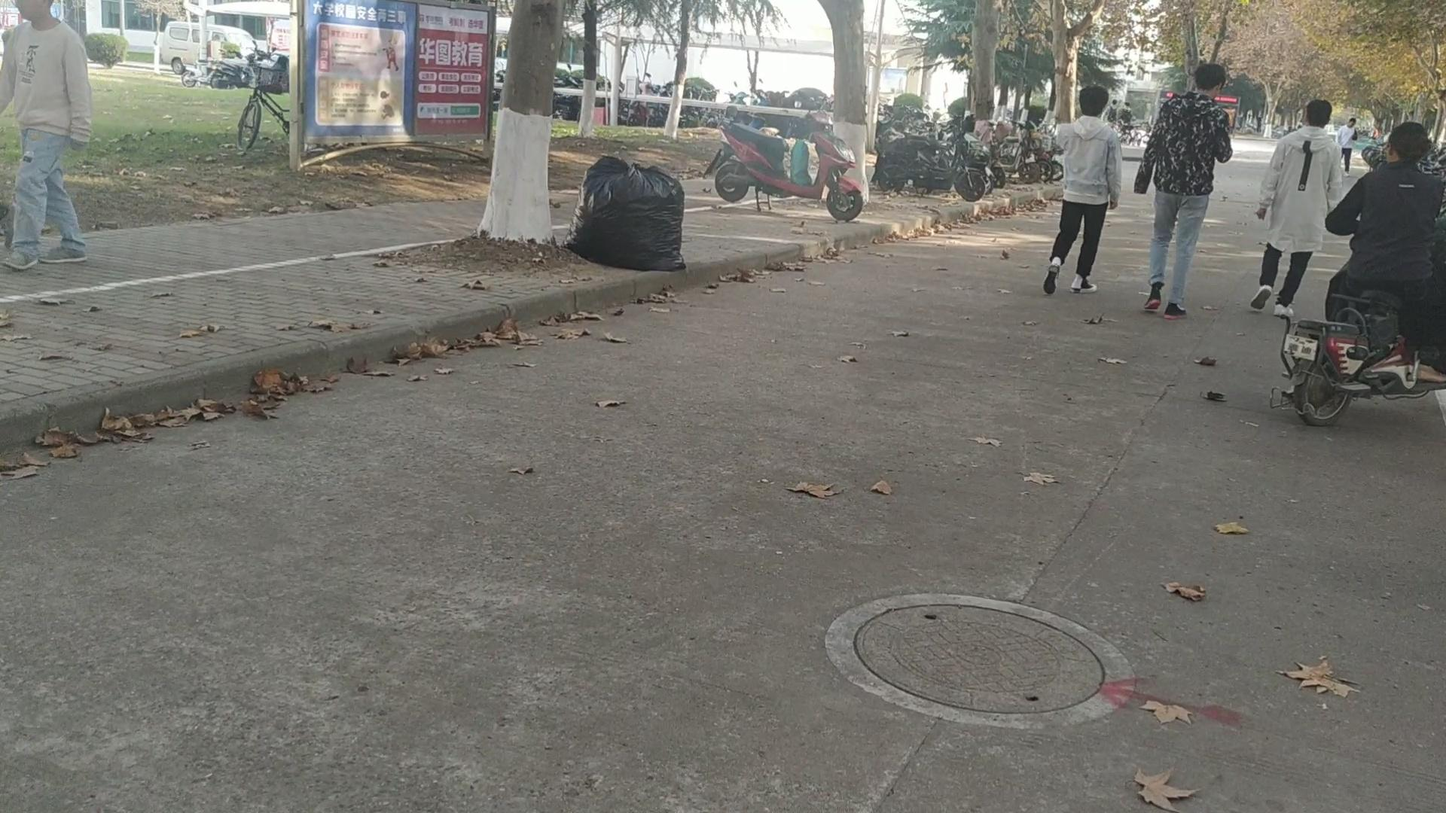car: (151, 20, 264, 81), (178, 56, 259, 89)
